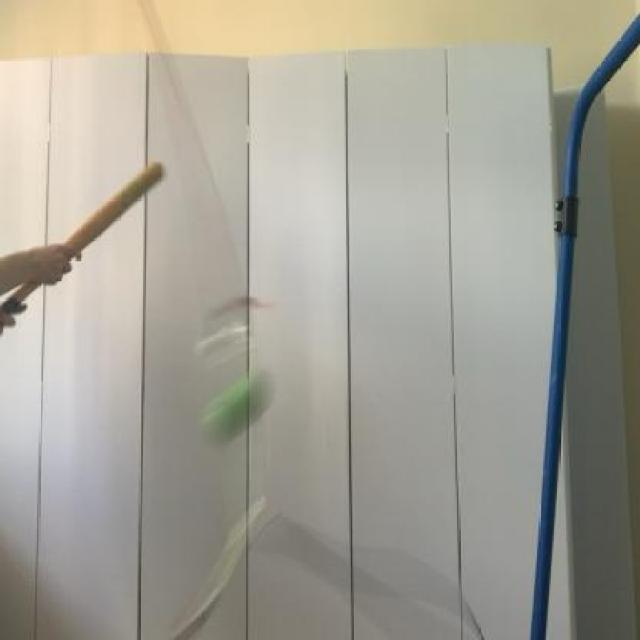baseball: (193, 362, 284, 442)
